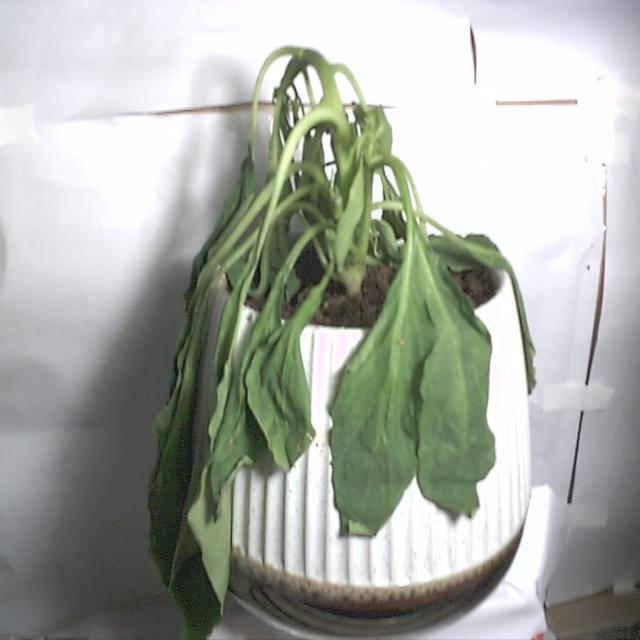Leaf: (332, 250, 430, 542), (168, 298, 235, 639), (412, 242, 493, 523), (148, 272, 210, 593)
